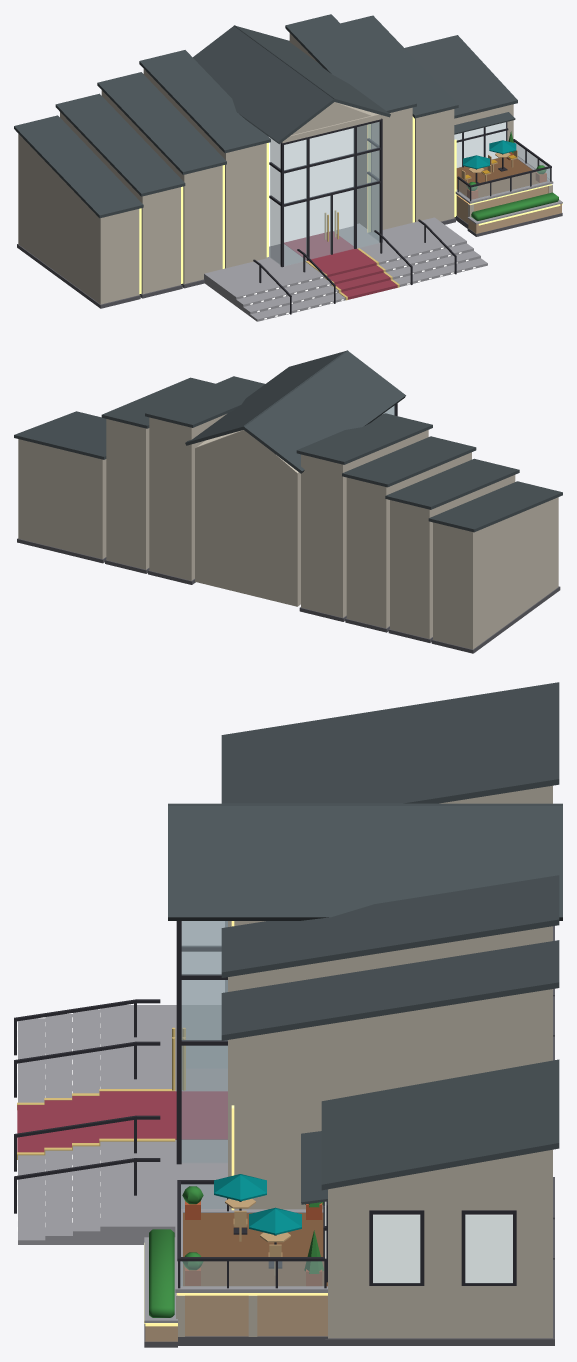
The model's file is WChewsFront_02.glb.
3 views of the same model, one above another, from view 1: azimuth 30°, elevation 25°; view 2: azimuth 150°, elevation 25°; view 3: azimuth 270°, elevation 25° (orthographic). The views are drawn at different scales.
Visible parts, largest first — view 1: WChewsFront_Roofs, WChewsFront_Walls, WChewsFront_Steps, WChewsFront_Glass, WChewsFront_Inside, WChewsFront_Mullions, WChewsFront_Carpet, WChewsFront_Door, WChewsFront_Strips, WChewsFront_Deck, WChewsFront_TerraceStone, WChewsFront_Rails (+4 smaller); view 2: WChewsFront_Walls, WChewsFront_Roofs, WChewsFront_Base; view 3: WChewsFront_Roofs, WChewsFront_Walls, WChewsFront_Steps, WChewsFront_Glass, WChewsFront_Carpet, WChewsFront_Deck, WChewsFront_Inside, WChewsFront_TerraceStone, WChewsFront_Rails, WChewsFront_Mullions, WChewsFront_Base, WChewsFront_Greenery (+5 smaller).
Part boxes in pixels (<box>): WChewsFront_Roofs: <box>14,14,517,218</box>; WChewsFront_Walls: <box>18,33,552,304</box>; WChewsFront_Steps: <box>204,156,562,321</box>; WChewsFront_Glass: <box>270,121,550,265</box>; WChewsFront_Inside: <box>269,122,505,246</box>; WChewsFront_Mullions: <box>269,118,508,267</box>; WChewsFront_Carpet: <box>284,231,397,299</box>; WChewsFront_Door: <box>309,190,354,258</box>; WChewsFront_Strips: <box>139,116,562,294</box>; WChewsFront_Deck: <box>456,157,542,197</box>; WChewsFront_TerraceStone: <box>456,186,561,233</box>; WChewsFront_Rails: <box>253,139,551,314</box>; WChewsFront_Walls: <box>18,414,558,649</box>; WChewsFront_Roofs: <box>14,350,562,532</box>; WChewsFront_Base: <box>17,538,560,653</box>; WChewsFront_Roofs: <box>168,682,562,1204</box>; WChewsFront_Walls: <box>176,785,552,1338</box>; WChewsFront_Steps: <box>18,1005,327,1322</box>; WChewsFront_Glass: <box>180,921,512,1286</box>; WChewsFront_Carpet: <box>17,1091,227,1152</box>; WChewsFront_Deck: <box>183,1213,327,1286</box>; WChewsFront_Inside: <box>325,1201,512,1282</box>; WChewsFront_TerraceStone: <box>145,1295,327,1341</box>; WChewsFront_Rails: <box>14,999,326,1288</box>; WChewsFront_Mullions: <box>176,921,516,1285</box>; WChewsFront_Base: <box>144,921,554,1347</box>; WChewsFront_Greenery: <box>149,1186,323,1317</box>.
Size of the model in its own units: 80.8 by 29.11 by 43.92.
